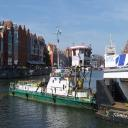tugboat: (10, 43, 114, 114)
